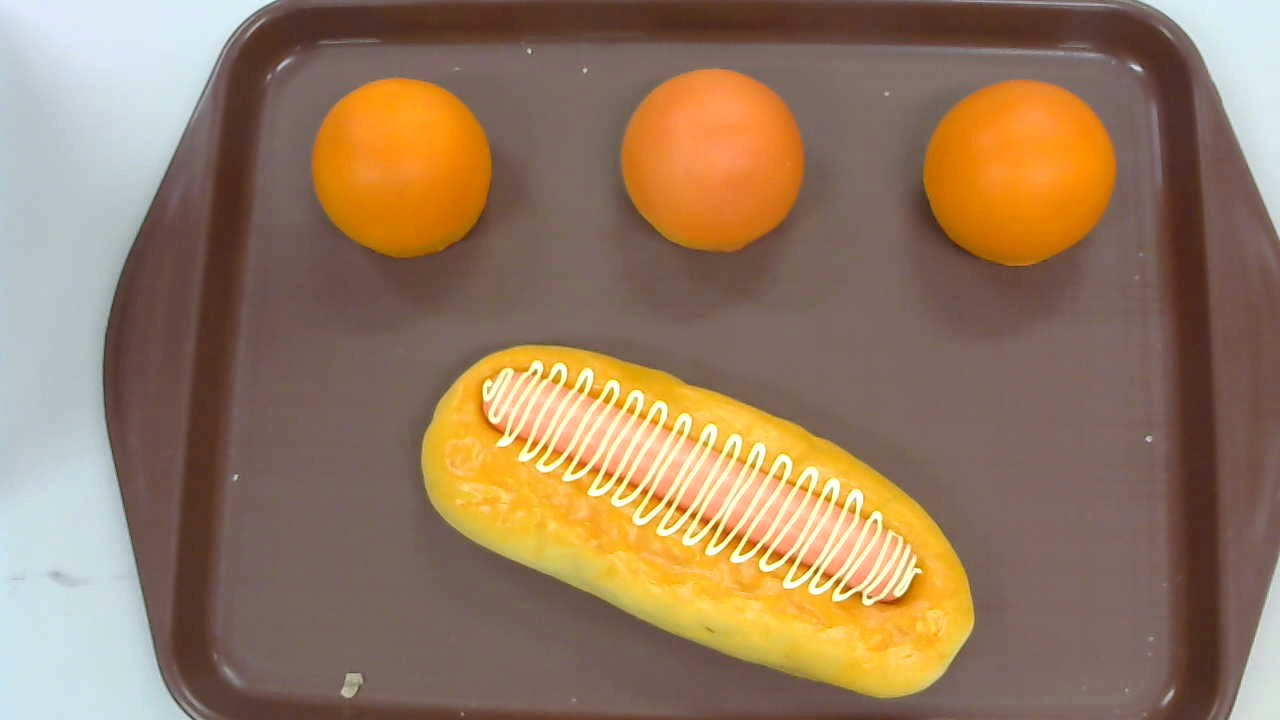bun: (922, 78, 1116, 266), (621, 67, 805, 255), (310, 77, 491, 259)
hot dog: (420, 343, 974, 699)
